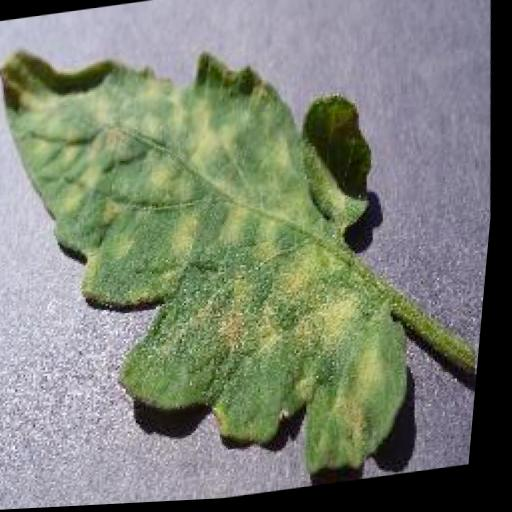Leaf Mold: (0, 1, 453, 512)
